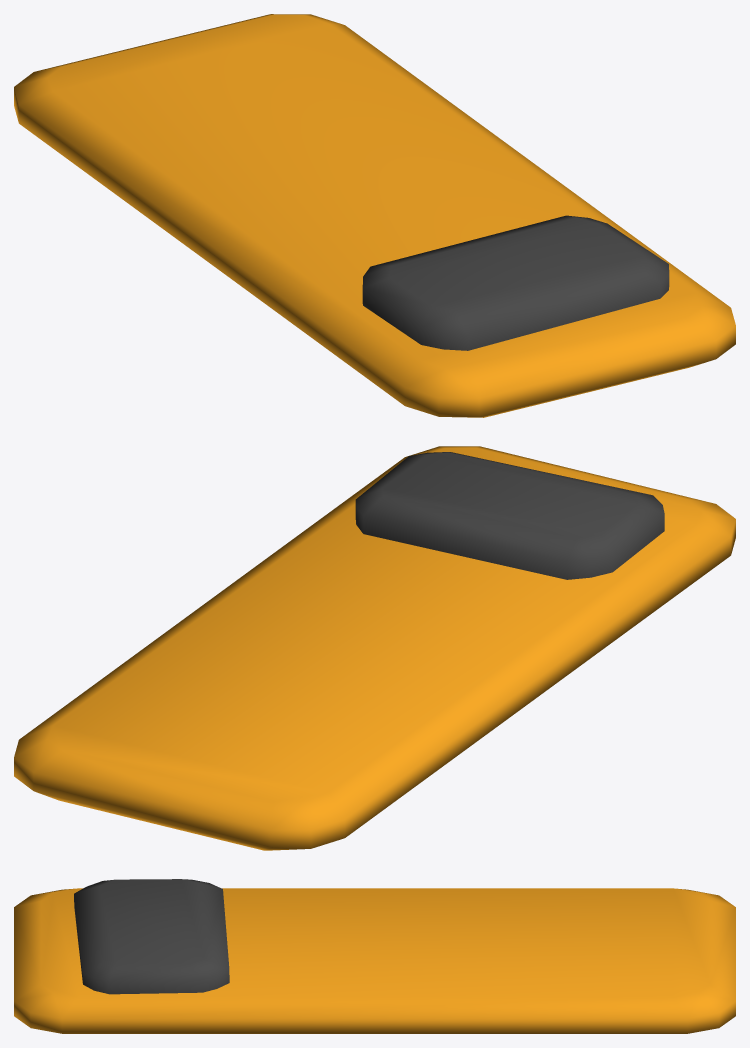
File: SM_Mattress_01.FBX
The picture shows the model from 3 angles, top to bottom: view 1: azimuth 30°, elevation 25°; view 2: azimuth 150°, elevation 25°; view 3: azimuth 270°, elevation 25°; orthographic projection. The views are drawn at different scales.
Parts seen in each view (by area): view 1: SM_Mattress_01; view 2: SM_Mattress_01; view 3: SM_Mattress_01.
Part boxes in pixels (left/top/right/bottom): SM_Mattress_01: left=14, top=14, right=735, bottom=417; SM_Mattress_01: left=14, top=446, right=735, bottom=850; SM_Mattress_01: left=14, top=879, right=735, bottom=1033.
Bounding box in the file's own units: 110 × 261 × 23.96.
